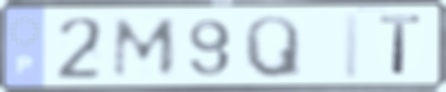2: (54, 14, 107, 82)
9: (186, 17, 233, 78)
I: (339, 11, 364, 82)
M: (109, 16, 181, 80)
Q: (240, 13, 305, 81)
T: (377, 13, 426, 78)
